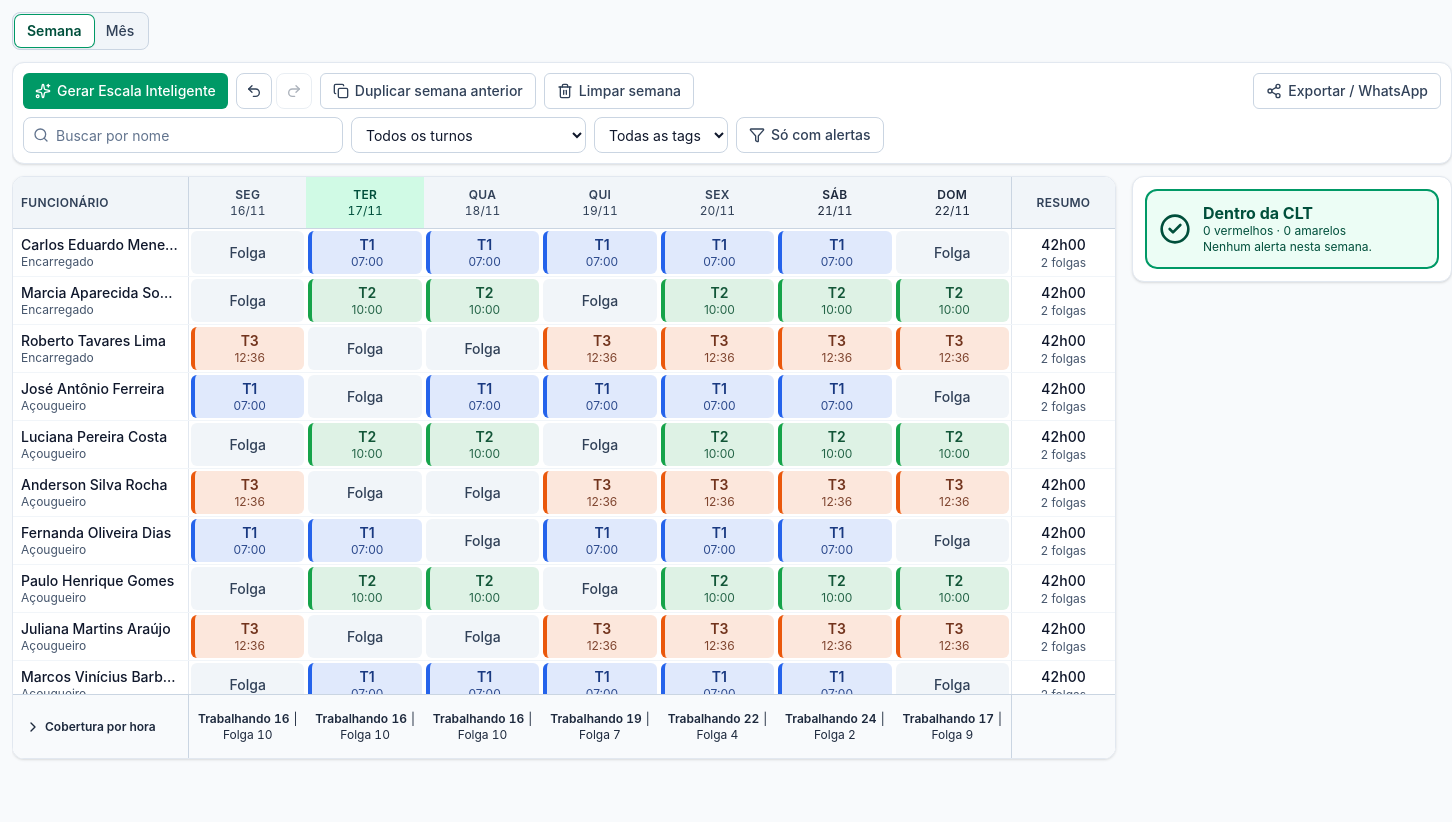
Test: ScheduleView › editar célula pelo menu vira Folga e o semáforo da pessoa muda
Click the 1st cell "T3 12:36": x=248, y=348 x1=191 y1=327 x2=304 y2=370
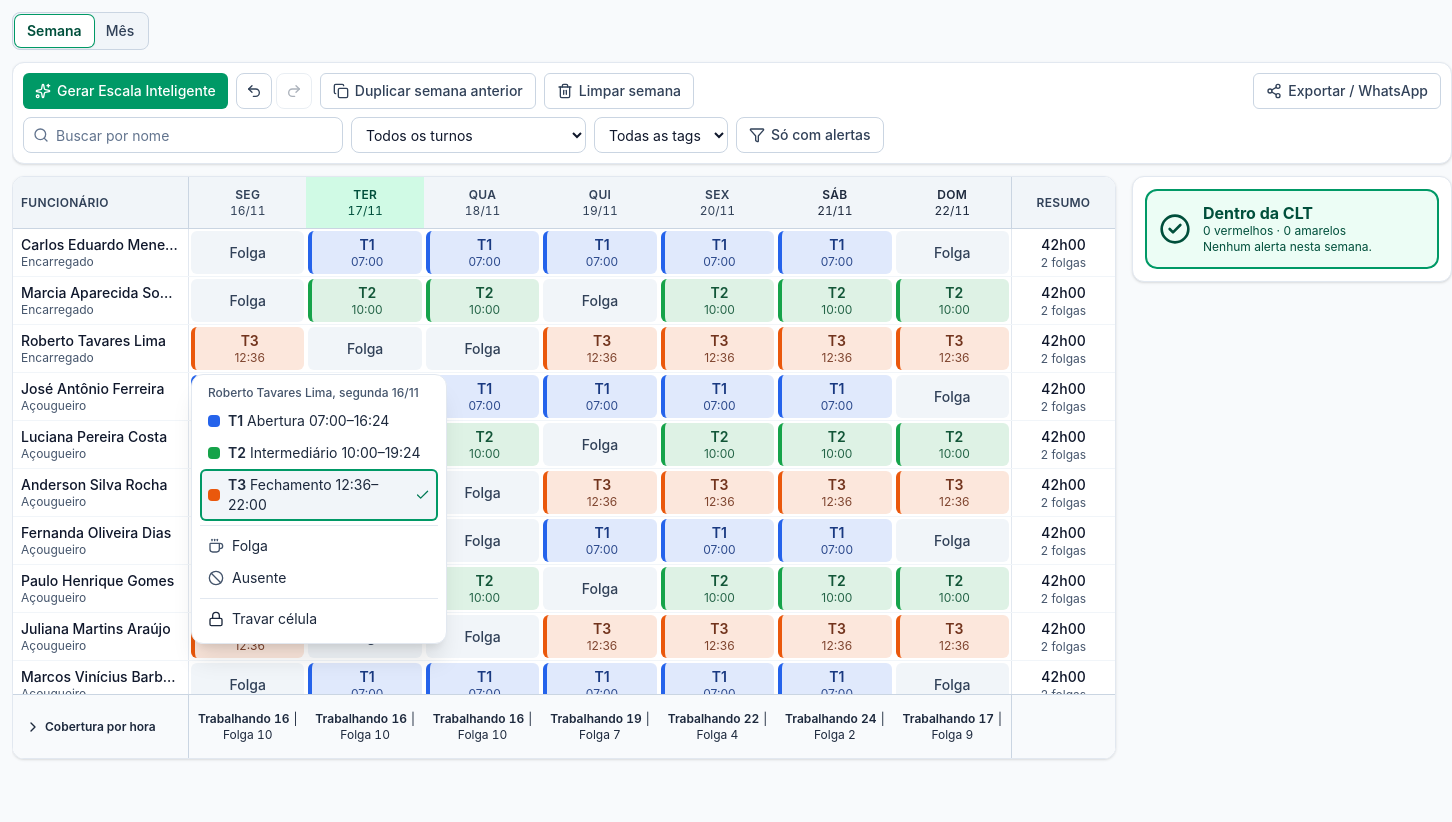
Click the menu item "Folga": x=319, y=546 x1=200 y1=530 x2=438 y2=562
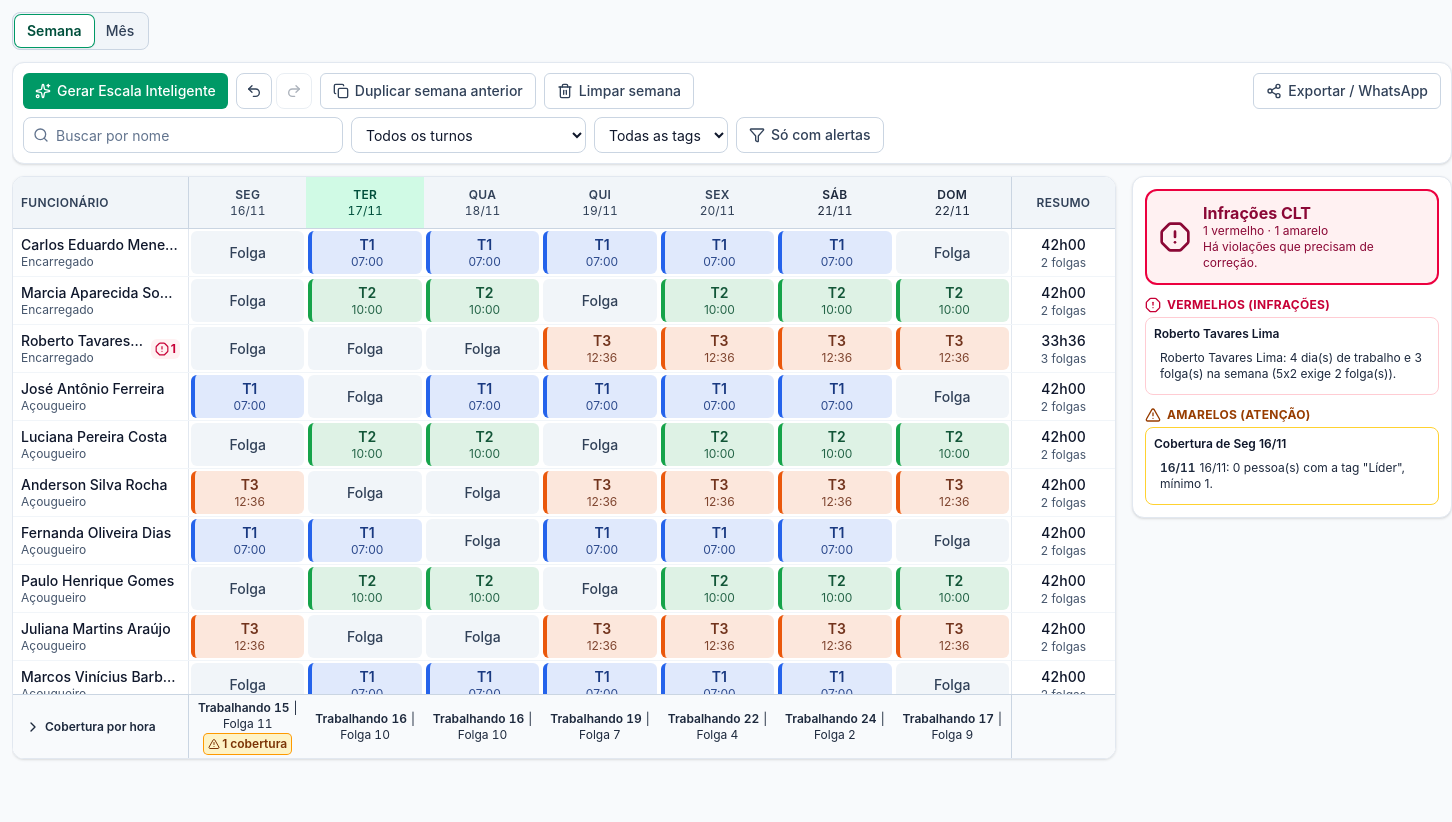
Expected: the menu is gone
Expected: the picture named "alerta vermelho" is shown, x1=151 y1=338 x2=180 y2=358
